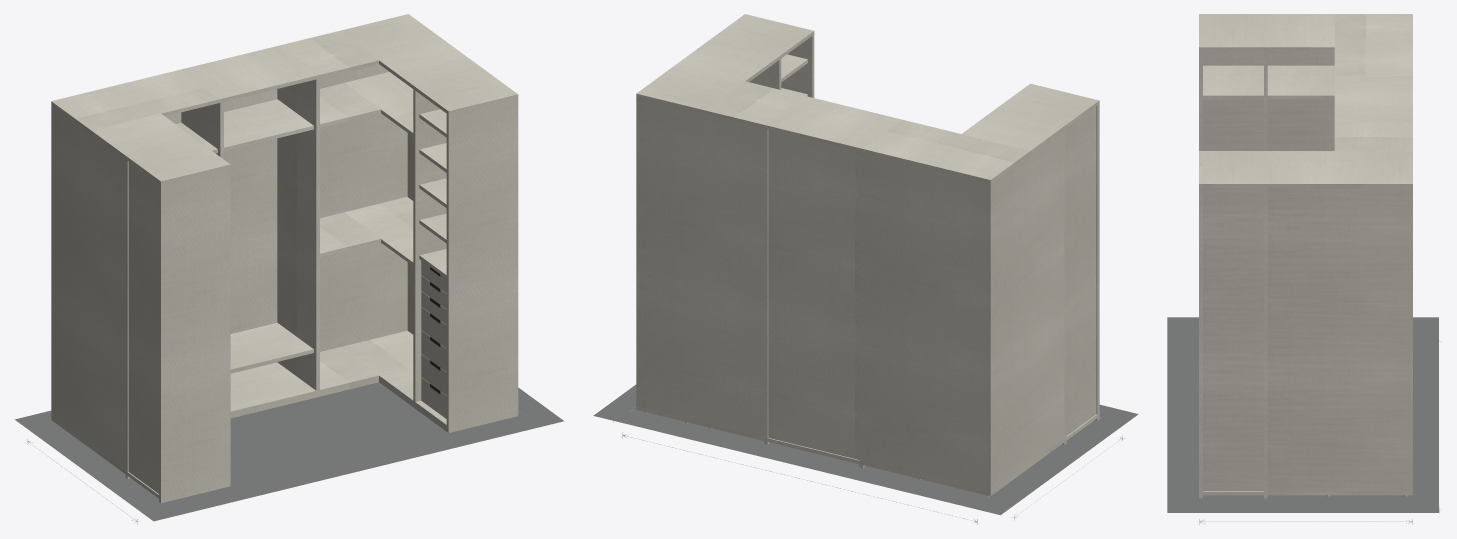
File: B1N-PC-drawers-TI.obj
3 renders of one model, left to right at view 1: azimuth 30°, elevation 25°; view 2: azimuth 150°, elevation 25°; view 3: azimuth 270°, elevation 25°, orthographic. The views are drawn at different scales.
Visible parts, largest first — view 1: Mesh1 B1N_with_drawers_DXF1 Model, Mesh23 B1N_with_drawers_DXF1 Model, Mesh68 B1N_with_drawers_DXF1 Model, Mesh106 B1N_with_drawers_DXF1 Model, Mesh4 B1N_with_drawers_DXF1 Model, Mesh50 B1N_with_drawers_DXF1 Model, Mesh107 B1N_with_drawers_DXF1 Model, Mesh61 B1N_with_drawers_DXF1 Model, Mesh51 B1N_with_drawers_DXF1 Model, Mesh52 B1N_with_drawers_DXF1 Model, Mesh49 B1N_with_drawers_DXF1 Model, Mesh77 B1N_with_drawers_DXF1 Model (+4 smaller); view 2: Mesh23 B1N_with_drawers_DXF1 Model, Mesh68 B1N_with_drawers_DXF1 Model, Mesh1 B1N_with_drawers_DXF1 Model, Mesh50 B1N_with_drawers_DXF1 Model, Mesh4 B1N_with_drawers_DXF1 Model, Mesh107 B1N_with_drawers_DXF1 Model, Mesh106 B1N_with_drawers_DXF1 Model, Mesh16 B1N_with_drawers_DXF1 Model; view 3: Mesh68 B1N_with_drawers_DXF1 Model, Mesh1 B1N_with_drawers_DXF1 Model, Mesh94 B1N_with_drawers_DXF1 Model, Mesh107 B1N_with_drawers_DXF1 Model, Mesh23 B1N_with_drawers_DXF1 Model, Mesh4 B1N_with_drawers_DXF1 Model, Mesh106 B1N_with_drawers_DXF1 Model, Mesh29 B1N_with_drawers_DXF1 Model, Mesh8 B1N_with_drawers_DXF1 Model, Mesh61 B1N_with_drawers_DXF1 Model.
Part boxes in pixels (x1=…): Mesh1 B1N_with_drawers_DXF1 Model: x1=51, y1=14, x2=518, y2=503; Mesh23 B1N_with_drawers_DXF1 Model: x1=51, y1=105, x2=181, y2=470; Mesh68 B1N_with_drawers_DXF1 Model: x1=320, y1=64, x2=413, y2=351; Mesh106 B1N_with_drawers_DXF1 Model: x1=52, y1=382, x2=526, y2=505; Mesh4 B1N_with_drawers_DXF1 Model: x1=128, y1=162, x2=158, y2=493; Mesh50 B1N_with_drawers_DXF1 Model: x1=224, y1=89, x2=277, y2=373; Mesh107 B1N_with_drawers_DXF1 Model: x1=14, y1=387, x2=563, y2=521; Mesh61 B1N_with_drawers_DXF1 Model: x1=320, y1=330, x2=413, y2=399; Mesh51 B1N_with_drawers_DXF1 Model: x1=224, y1=99, x2=313, y2=151; Mesh52 B1N_with_drawers_DXF1 Model: x1=230, y1=322, x2=313, y2=372; Mesh49 B1N_with_drawers_DXF1 Model: x1=230, y1=362, x2=315, y2=411; Mesh77 B1N_with_drawers_DXF1 Model: x1=344, y1=197, x2=413, y2=265; Mesh23 B1N_with_drawers_DXF1 Model: x1=863, y1=130, x2=1064, y2=492; Mesh68 B1N_with_drawers_DXF1 Model: x1=636, y1=97, x2=763, y2=437; Mesh1 B1N_with_drawers_DXF1 Model: x1=636, y1=14, x2=1099, y2=467; Mesh50 B1N_with_drawers_DXF1 Model: x1=768, y1=129, x2=859, y2=459; Mesh4 B1N_with_drawers_DXF1 Model: x1=1066, y1=107, x2=1096, y2=435; Mesh107 B1N_with_drawers_DXF1 Model: x1=593, y1=384, x2=1138, y2=515; Mesh106 B1N_with_drawers_DXF1 Model: x1=630, y1=407, x2=1101, y2=499; Mesh16 B1N_with_drawers_DXF1 Model: x1=863, y1=439, x2=1064, y2=496; Mesh68 B1N_with_drawers_DXF1 Model: x1=1267, y1=187, x2=1412, y2=491; Mesh1 B1N_with_drawers_DXF1 Model: x1=1199, y1=14, x2=1412, y2=498; Mesh94 B1N_with_drawers_DXF1 Model: x1=1203, y1=187, x2=1263, y2=490; Mesh107 B1N_with_drawers_DXF1 Model: x1=1167, y1=317, x2=1438, y2=512; Mesh23 B1N_with_drawers_DXF1 Model: x1=1267, y1=50, x2=1334, y2=150; Mesh4 B1N_with_drawers_DXF1 Model: x1=1203, y1=50, x2=1263, y2=150; Mesh106 B1N_with_drawers_DXF1 Model: x1=1193, y1=328, x2=1412, y2=501; Mesh29 B1N_with_drawers_DXF1 Model: x1=1267, y1=65, x2=1334, y2=99; Mesh8 B1N_with_drawers_DXF1 Model: x1=1203, y1=65, x2=1263, y2=99; Mesh61 B1N_with_drawers_DXF1 Model: x1=1267, y1=491, x2=1412, y2=495.
Bounding box in the file's own units: 139 × 109 × 82.19.
3 materials, 1 textured.
